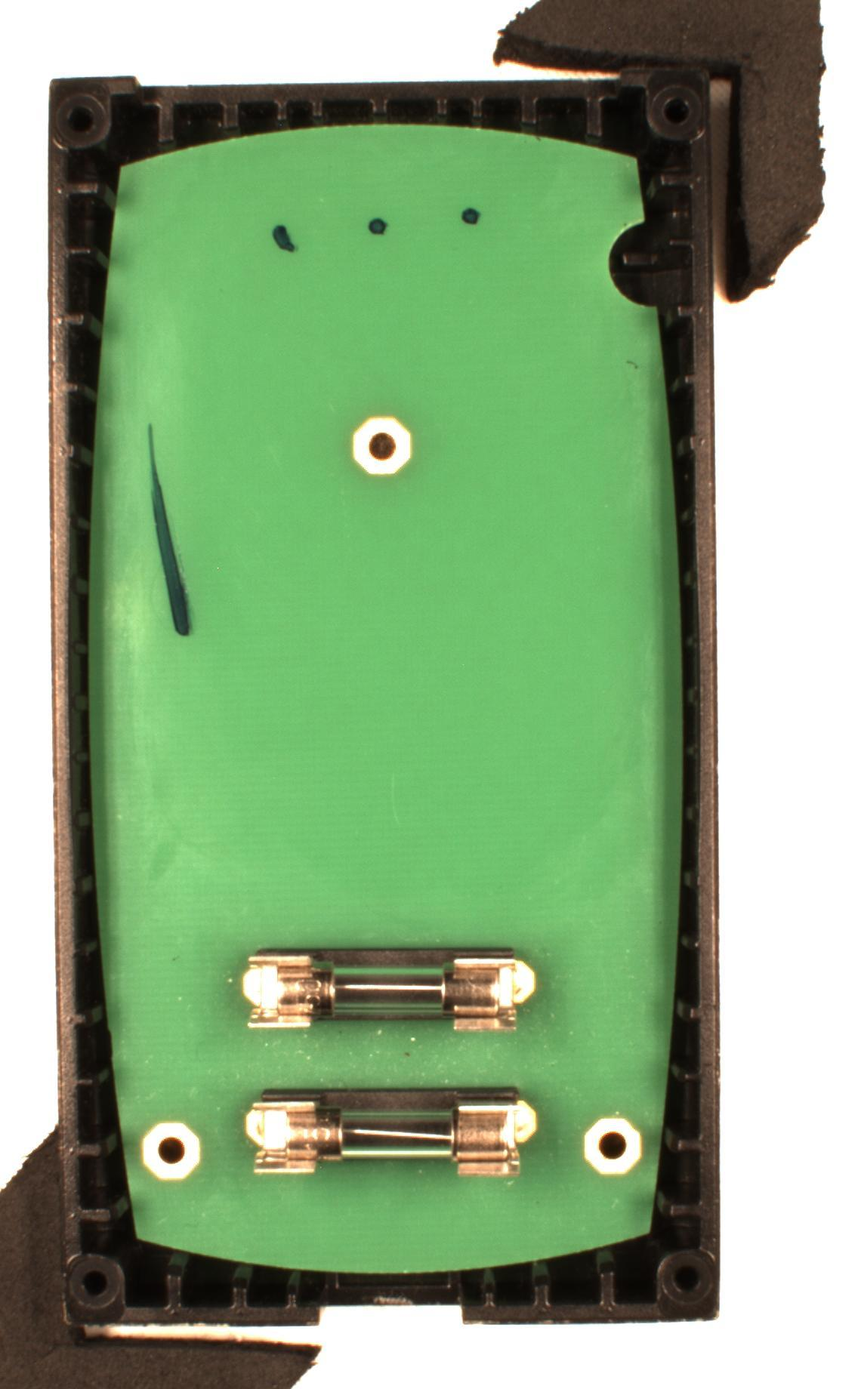Linijsko Ostecene: (143, 420, 196, 640)
Tockasto Ostecenje: (269, 222, 301, 254), (366, 214, 393, 239), (459, 206, 482, 227)
